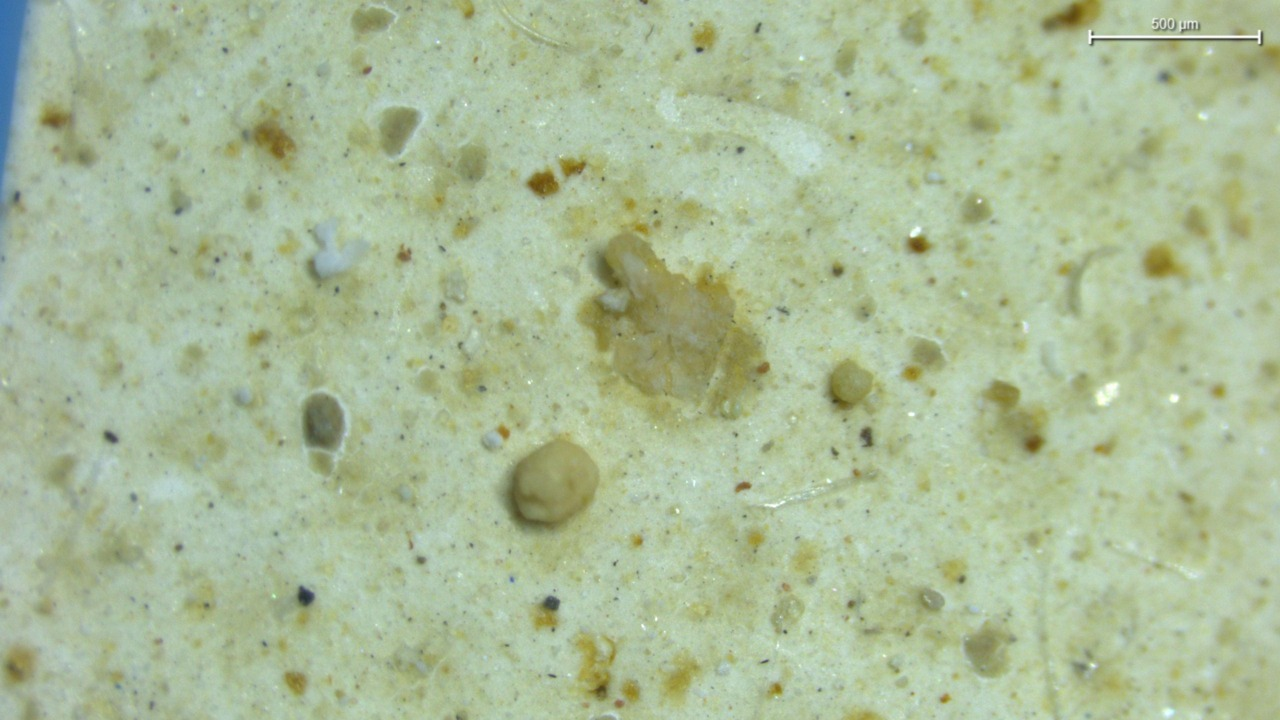microplastic_fragment: (595, 233, 740, 400), (510, 439, 599, 524), (312, 219, 369, 278), (830, 360, 873, 404), (646, 268, 650, 274)
